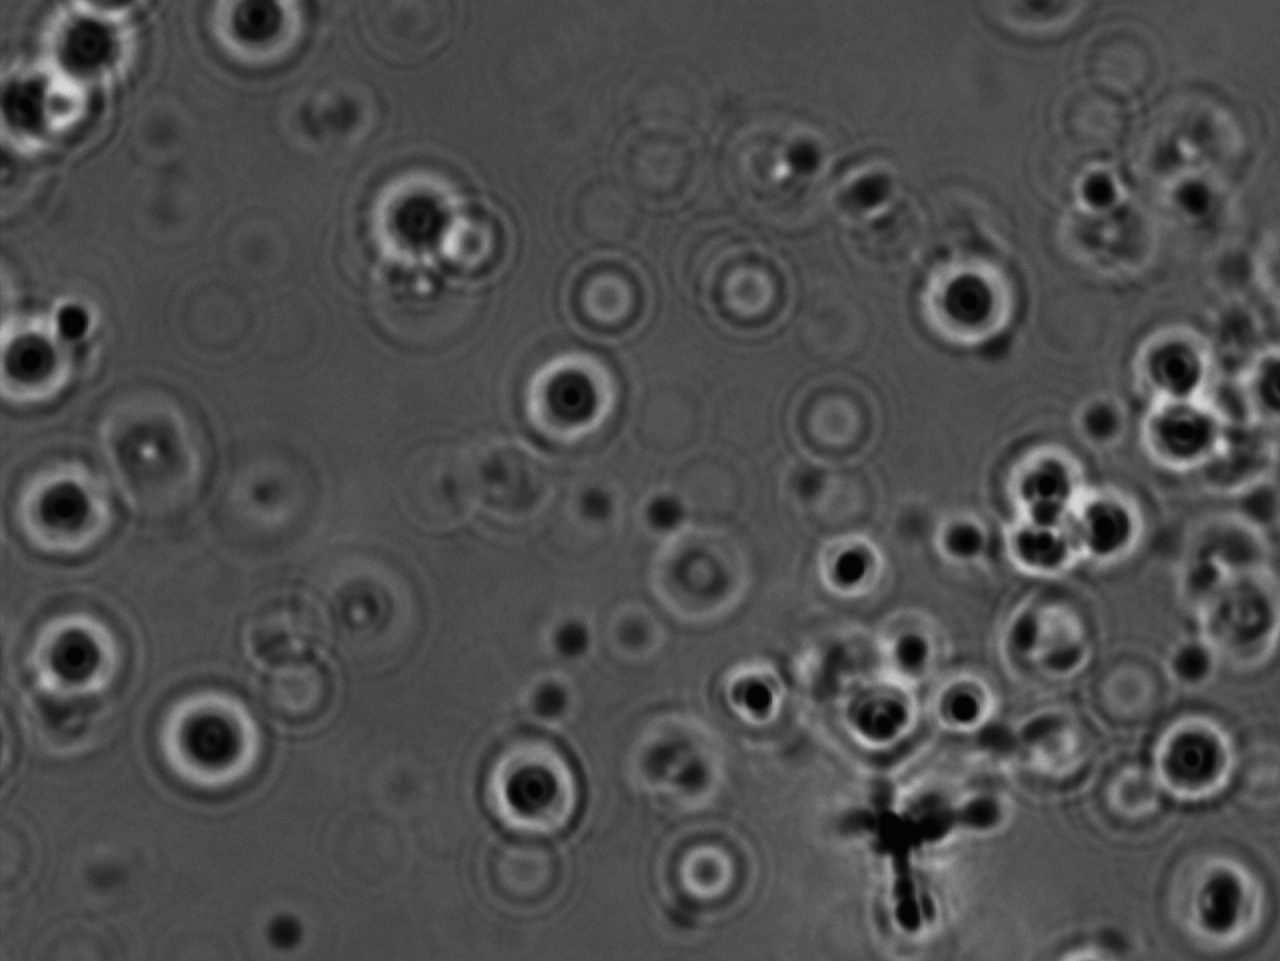depth:-16: (353, 156, 498, 287), (142, 679, 283, 813), (11, 581, 145, 719), (898, 233, 1038, 360), (463, 725, 599, 848), (1049, 456, 1166, 591), (503, 335, 625, 457), (8, 455, 128, 577), (1133, 695, 1255, 814), (980, 422, 1105, 535), (1161, 851, 1273, 961), (1115, 307, 1224, 416), (1132, 385, 1236, 482)
